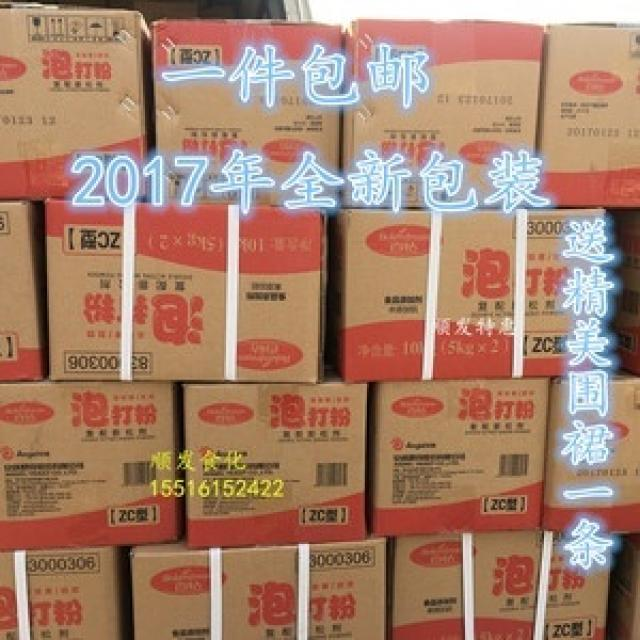box: (45, 198, 329, 382), (331, 207, 606, 380), (341, 19, 544, 207), (151, 19, 346, 209), (183, 367, 367, 550), (0, 6, 160, 203), (0, 380, 181, 548), (369, 375, 553, 538), (130, 538, 384, 640), (393, 533, 612, 640), (533, 21, 640, 209), (540, 373, 640, 535), (0, 548, 122, 640), (0, 198, 47, 380), (593, 207, 640, 375), (604, 533, 640, 640)
